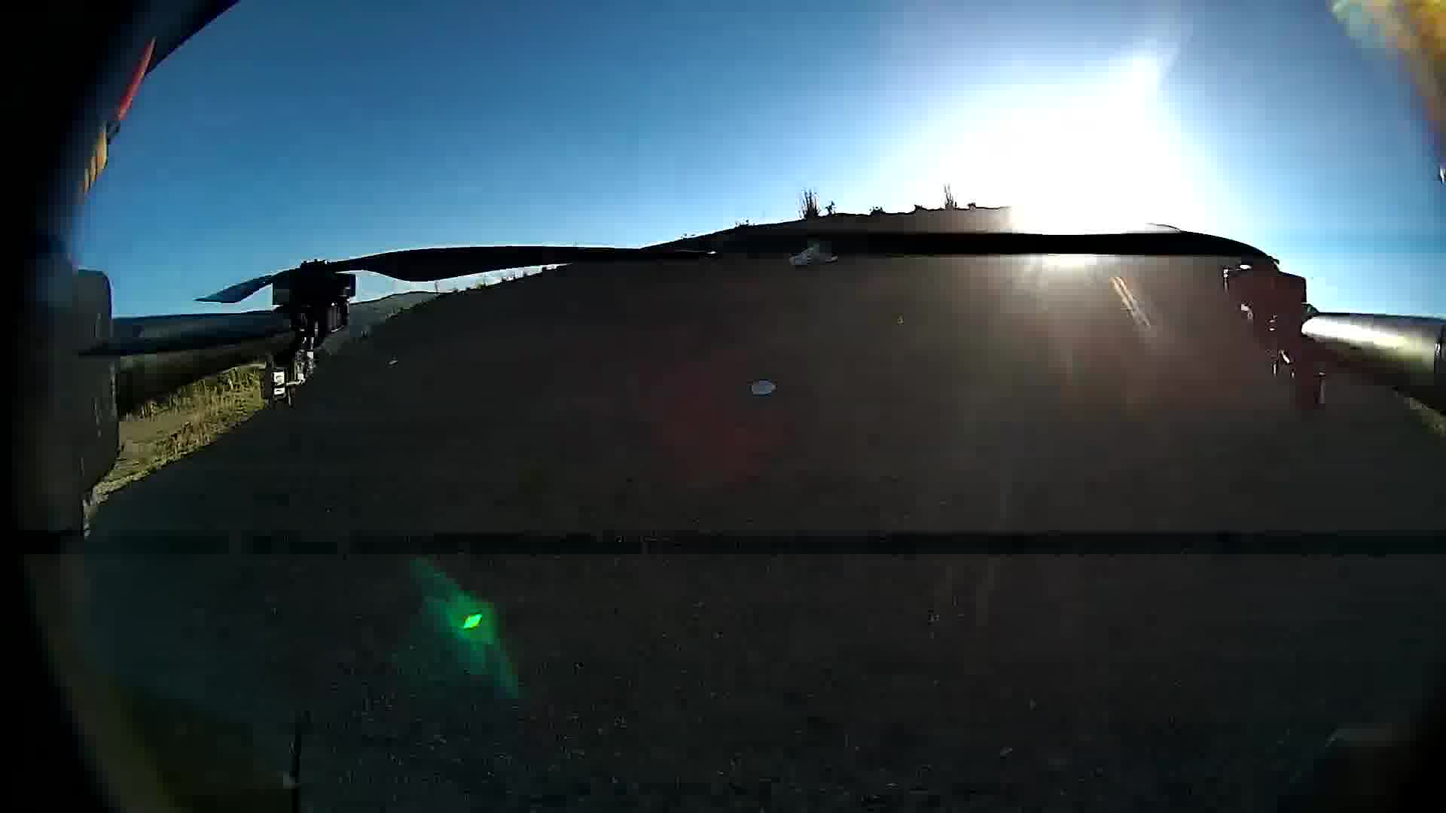Target: (750, 379, 777, 397)
